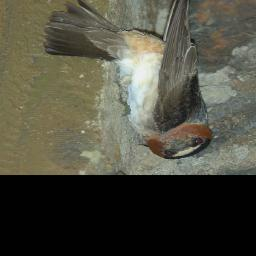Swallow: (43, 0, 215, 160)
